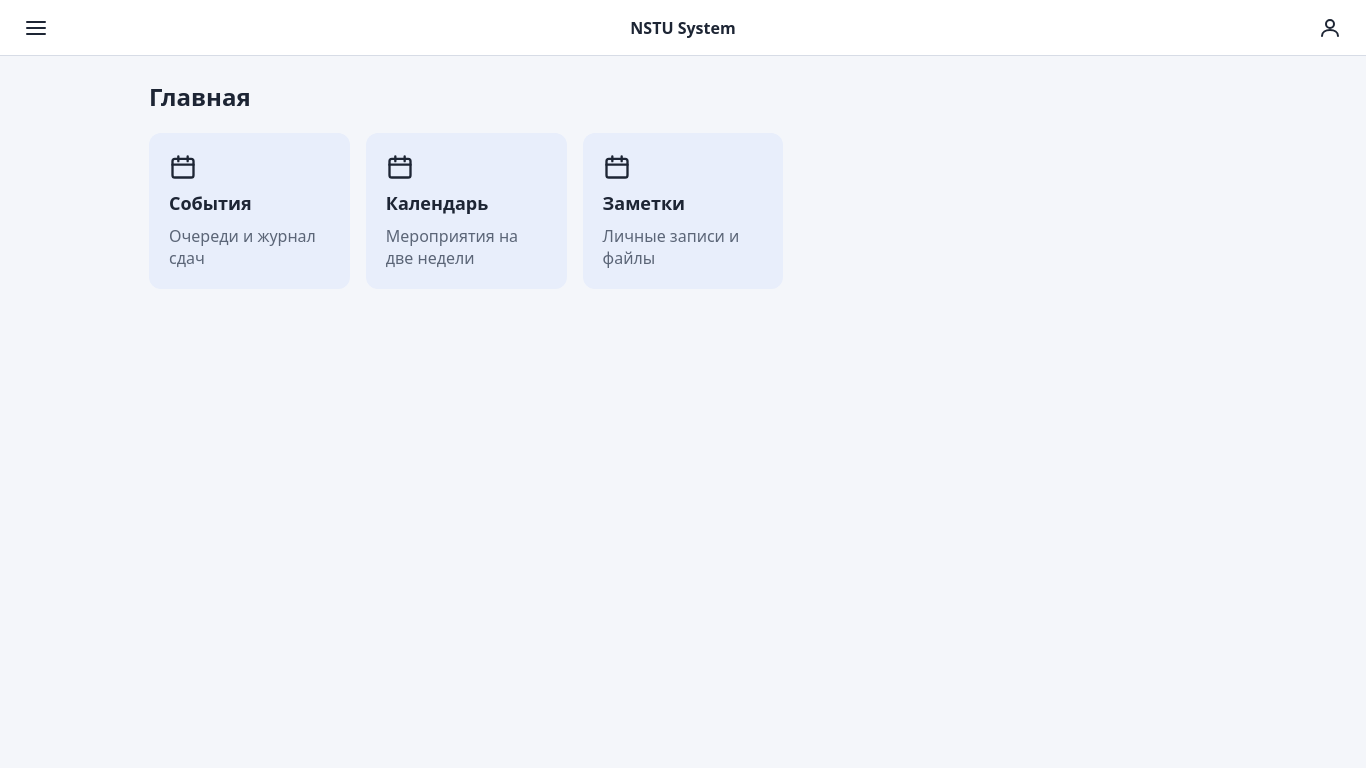
Test: оболочка интерфейса и иконка пользователя › выход доступен всем и возвращает на экран входа
Expected: the list with test id "module-grid" is shown, [149,133,783,289]
Click the button named "Пользователь" at (1330,28), box [1310,8,1350,48]
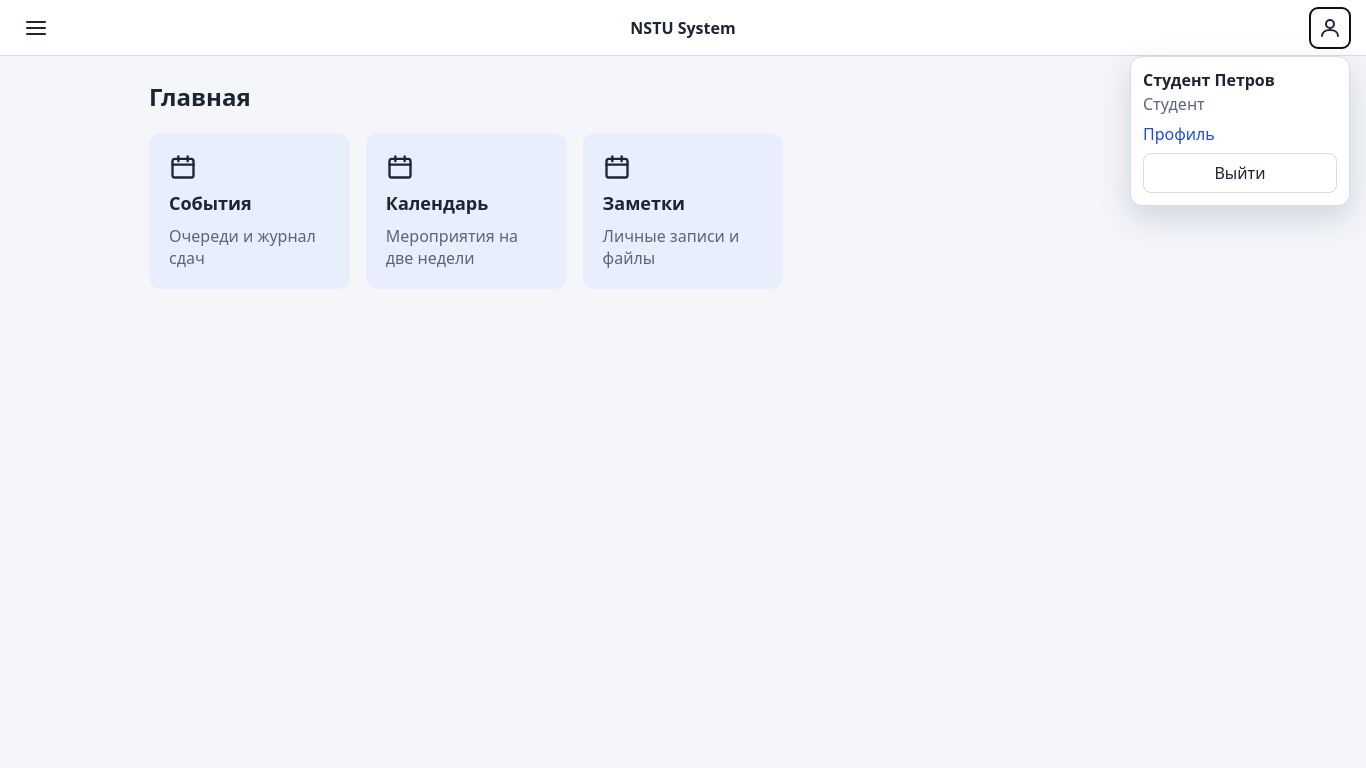
Click the button "Выйти" at (1240,172), box [1143,152,1337,192]
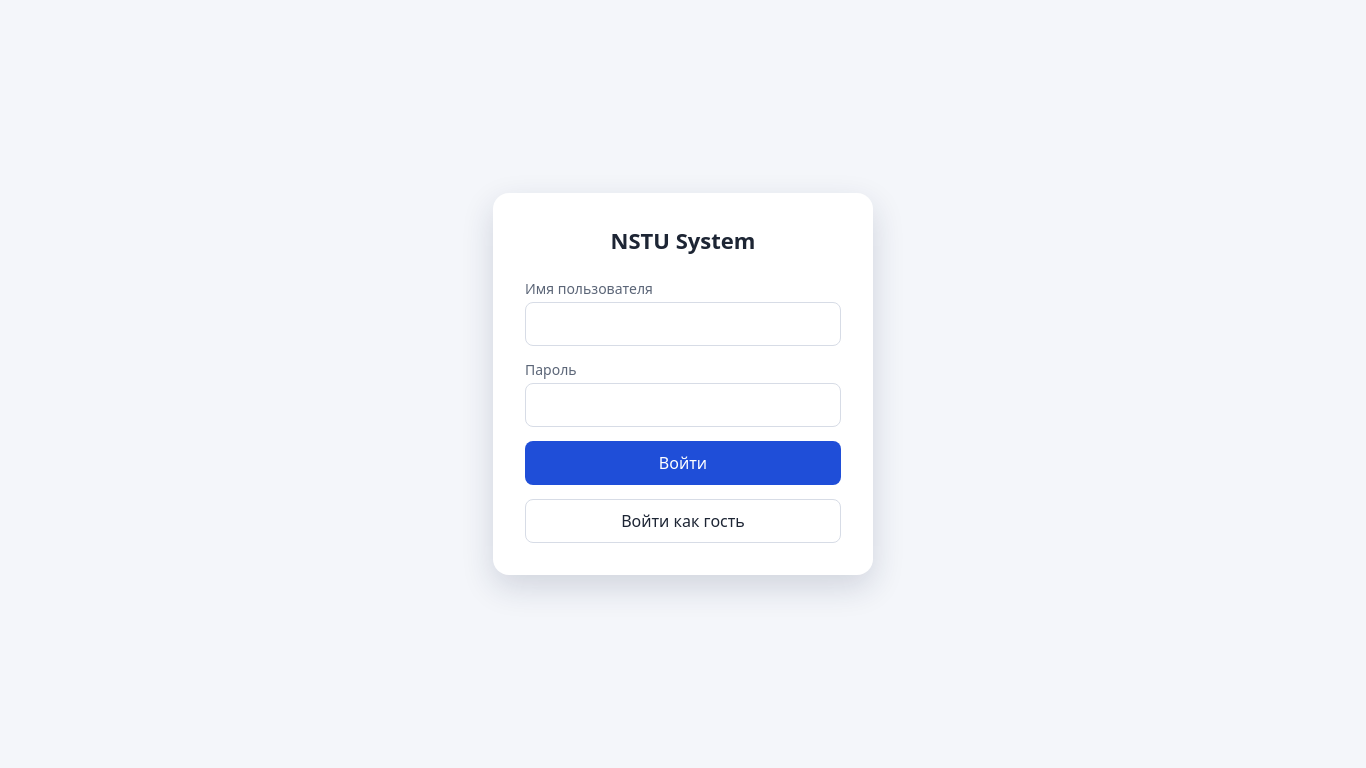
Now the field labelled "Имя пользователя" is shown, box [525,302,841,346]
